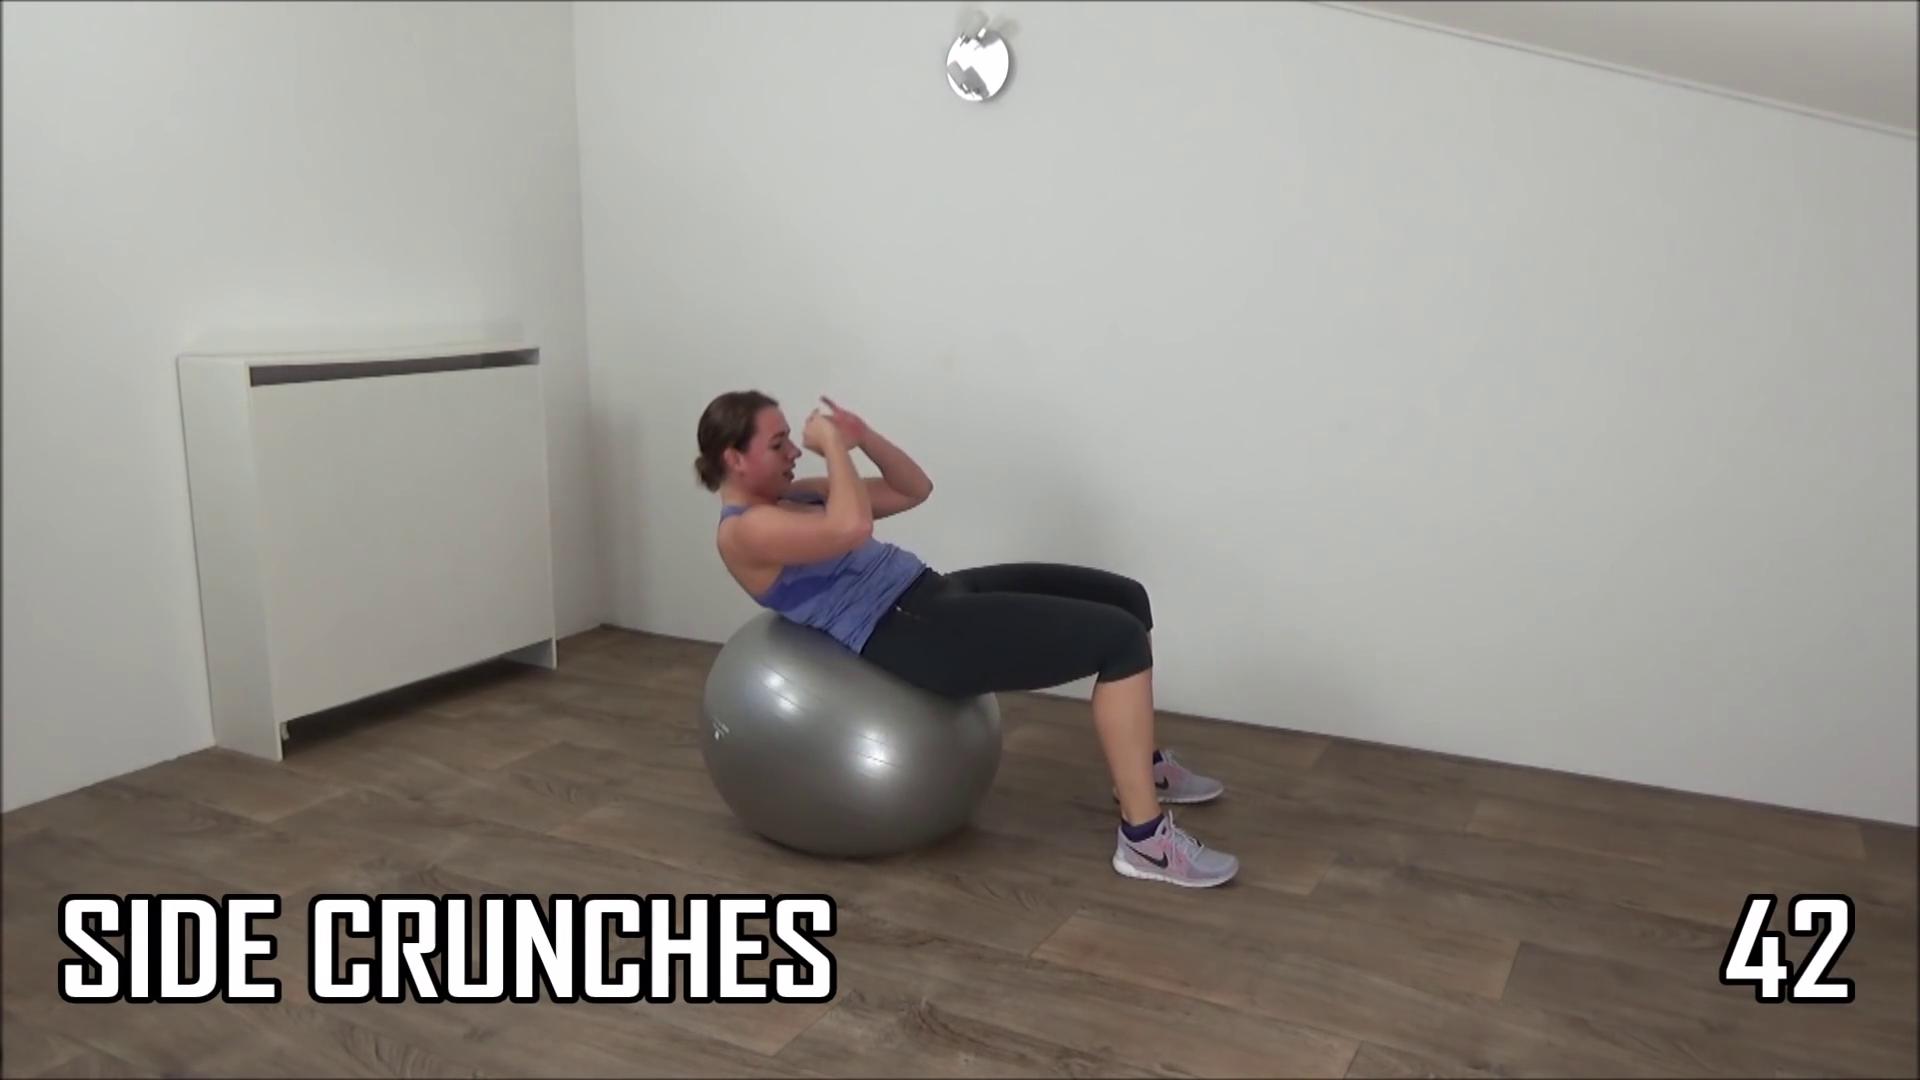yogaball: (680, 597, 1048, 889)
